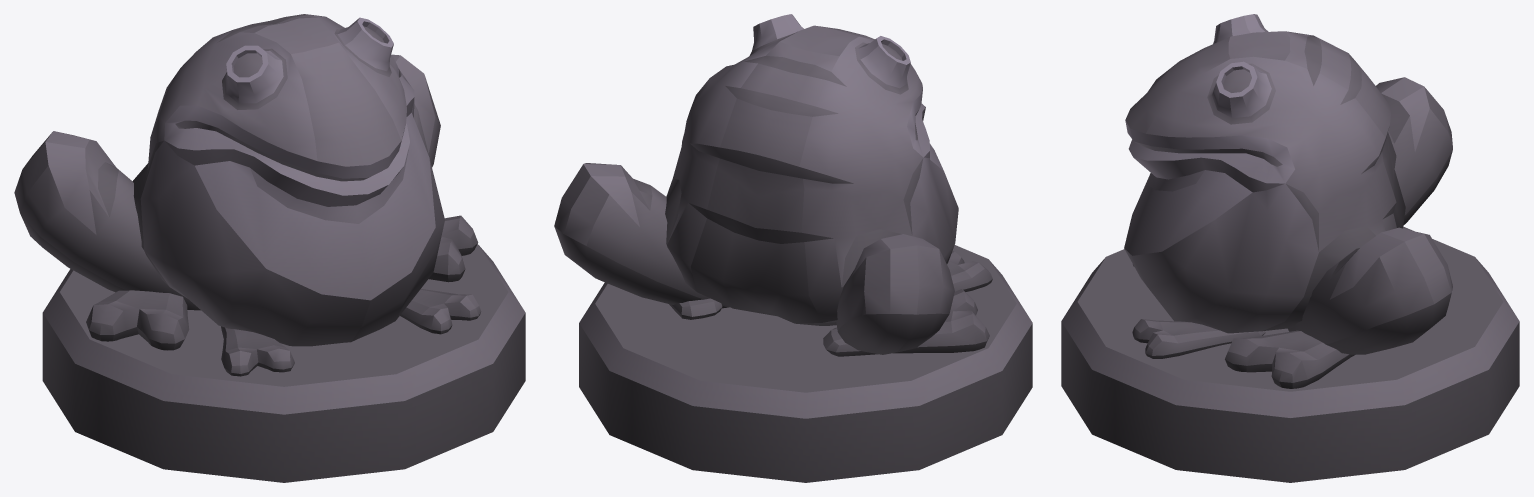
Rendered from statue_frog.glb.
3 renders of one model, left to right at view 1: azimuth 30°, elevation 25°; view 2: azimuth 150°, elevation 25°; view 3: azimuth 270°, elevation 25°, orthographic. The views are drawn at different scales.
Visible parts, largest first — view 1: statue_frog; view 2: statue_frog; view 3: statue_frog.
Boxes of the visible parts, box(x1,y1,x2,y2) form: statue_frog: box(14, 14, 525, 482); statue_frog: box(554, 14, 1032, 482); statue_frog: box(1061, 14, 1519, 482).
Bounding box in the file's own units: 1.82 × 1.52 × 1.82.
1 material, 1 textured.
